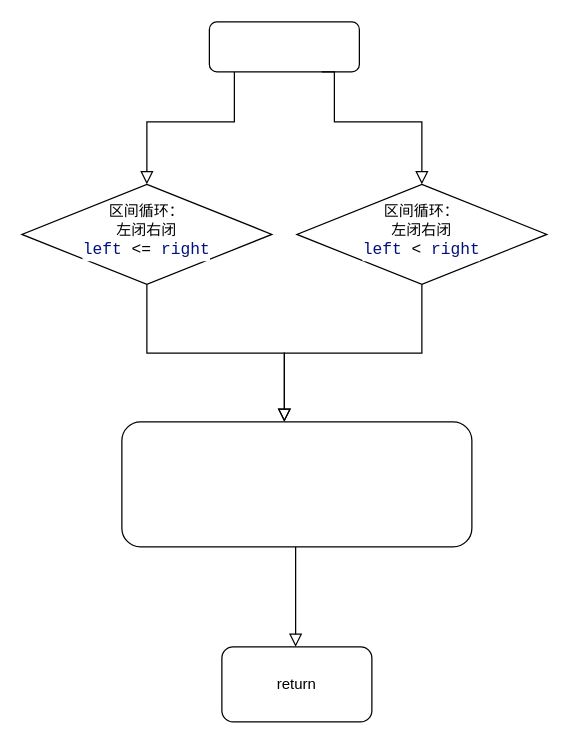
This 569x744 diagram has some shape labels left out. Each missing label, with the centre of its shape:
left + Math . floor (( right - left ) / 2 ) target与center对应的值来比较大小，判断目标值在哪个区间: the point at 296,484
二分查找: the point at 283,46
